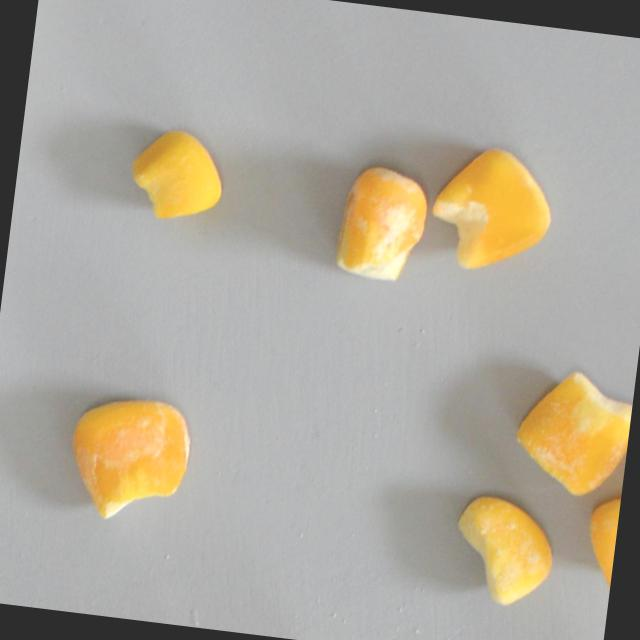no_canjicado: (422, 139, 558, 279), (124, 122, 228, 225)
pelicula: (60, 389, 194, 527), (506, 363, 635, 502), (442, 491, 560, 612), (331, 162, 431, 285), (578, 492, 621, 597)
